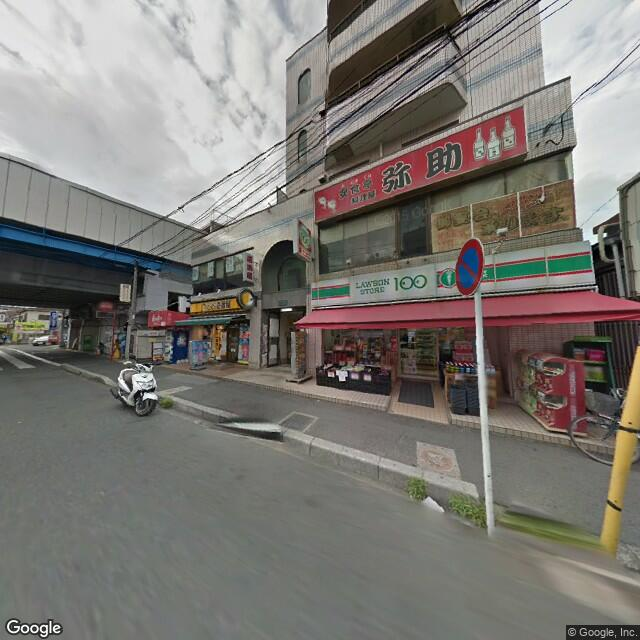lawson: (308, 241, 600, 307)
